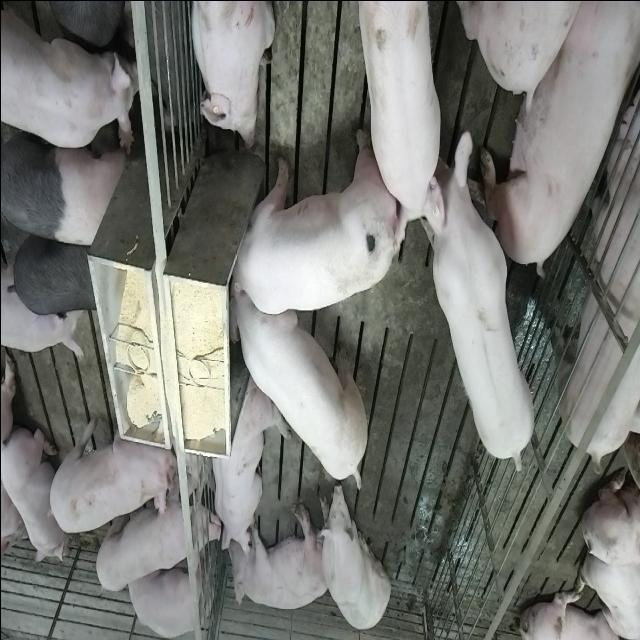Feeding: (220, 129, 395, 315), (230, 284, 372, 497)
Lateral_lying: (226, 500, 330, 610)
Sitting: (317, 481, 390, 633)
Standing: (418, 134, 536, 471), (548, 64, 640, 468), (1, 0, 140, 151), (353, 0, 444, 225), (2, 119, 128, 250), (46, 409, 174, 532), (6, 228, 106, 316)
Sternal_lying: (208, 372, 284, 554), (186, 0, 274, 150), (2, 419, 65, 566), (125, 552, 206, 637)
